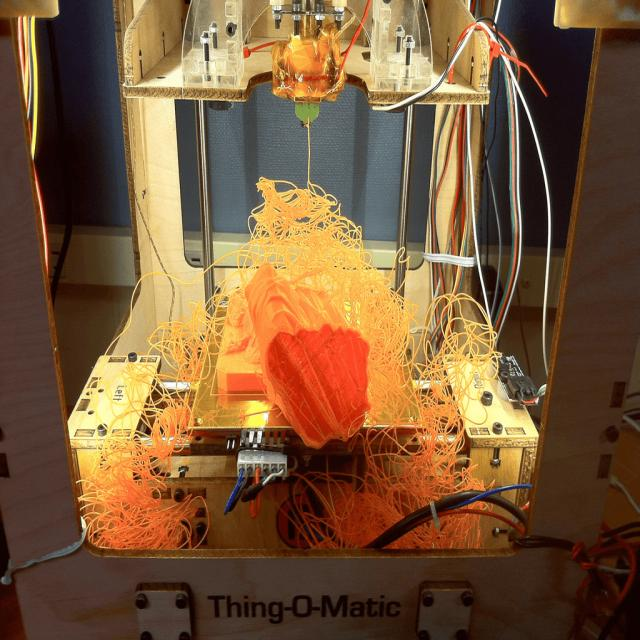spaghetti: (93, 403, 215, 580), (256, 185, 395, 315), (368, 318, 450, 464), (156, 291, 229, 390), (449, 304, 502, 394)
